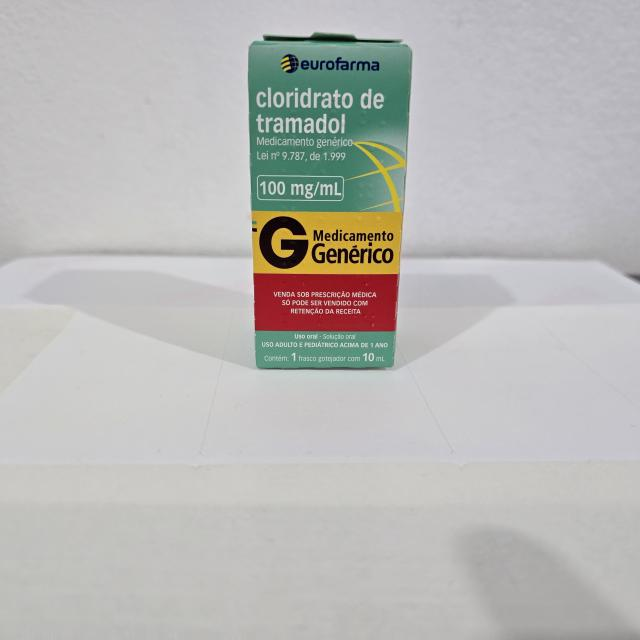tramadol: (241, 27, 416, 377)
